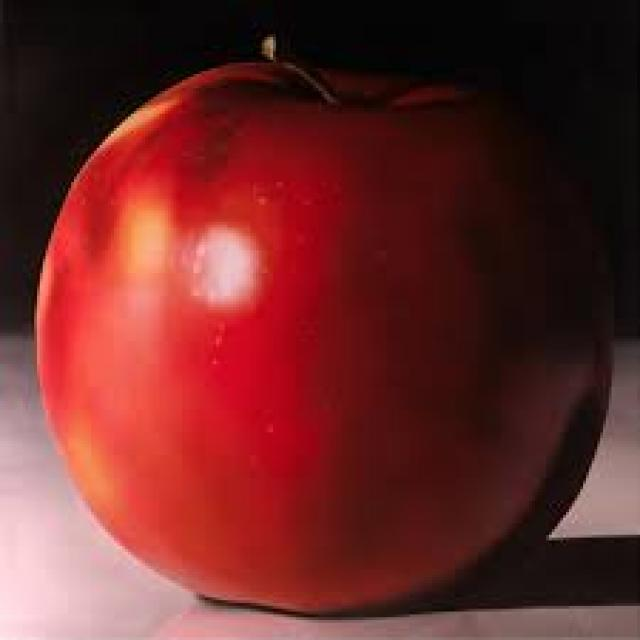organic waste: (28, 31, 614, 623)
